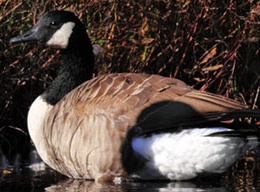goose: (5, 7, 260, 181)
